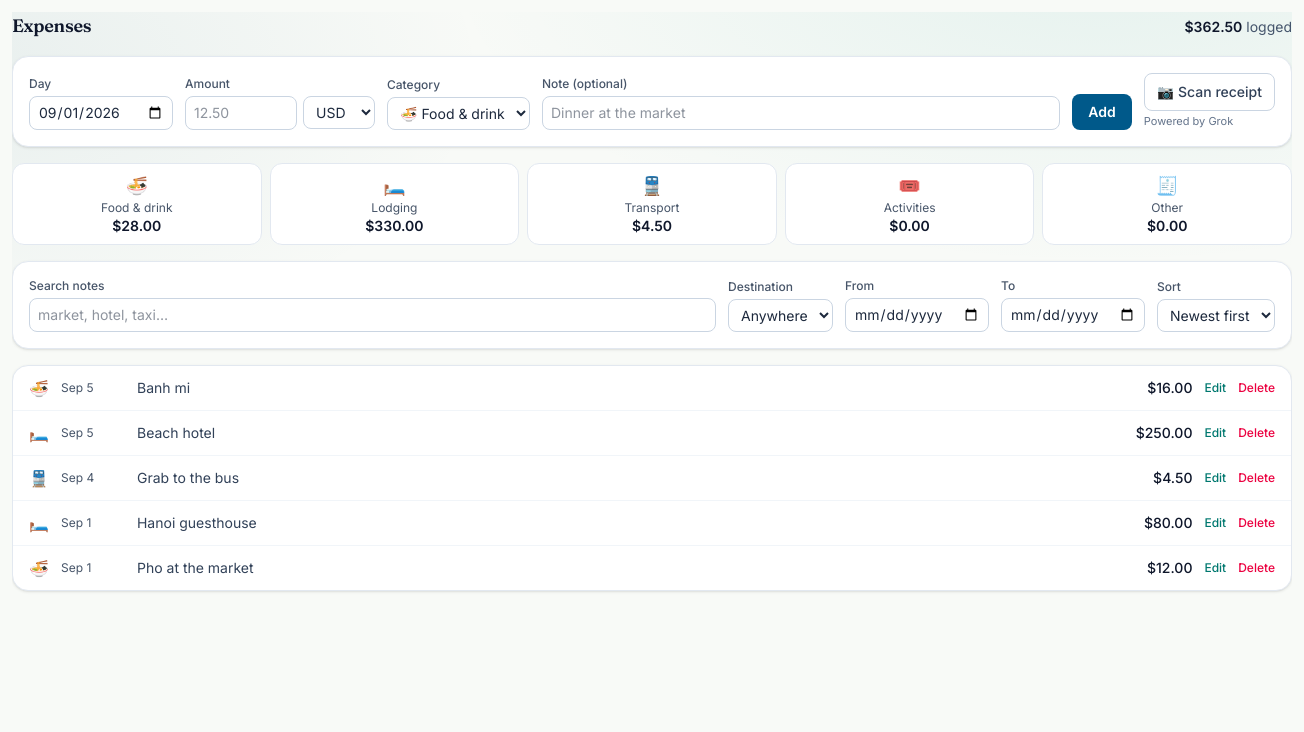
Test: filtering the expense list › leaves the filter alone when the new row matches it
Click the button "🍜 Food & drink $28.00".
click(137, 204)  # box left=12, top=162, right=262, bottom=244
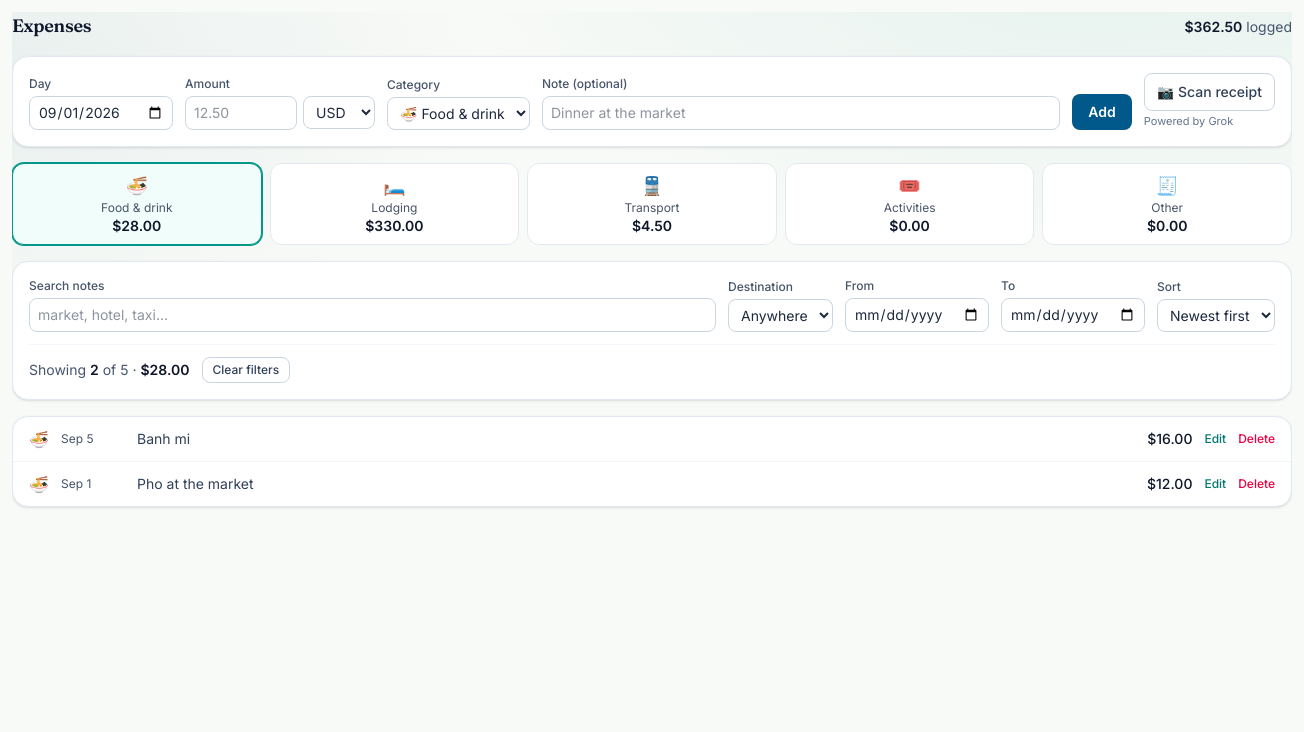
Type "3.50" into the field labelled "Amount".
click(241, 112); type("3.50")  # box left=185, top=96, right=297, bottom=130
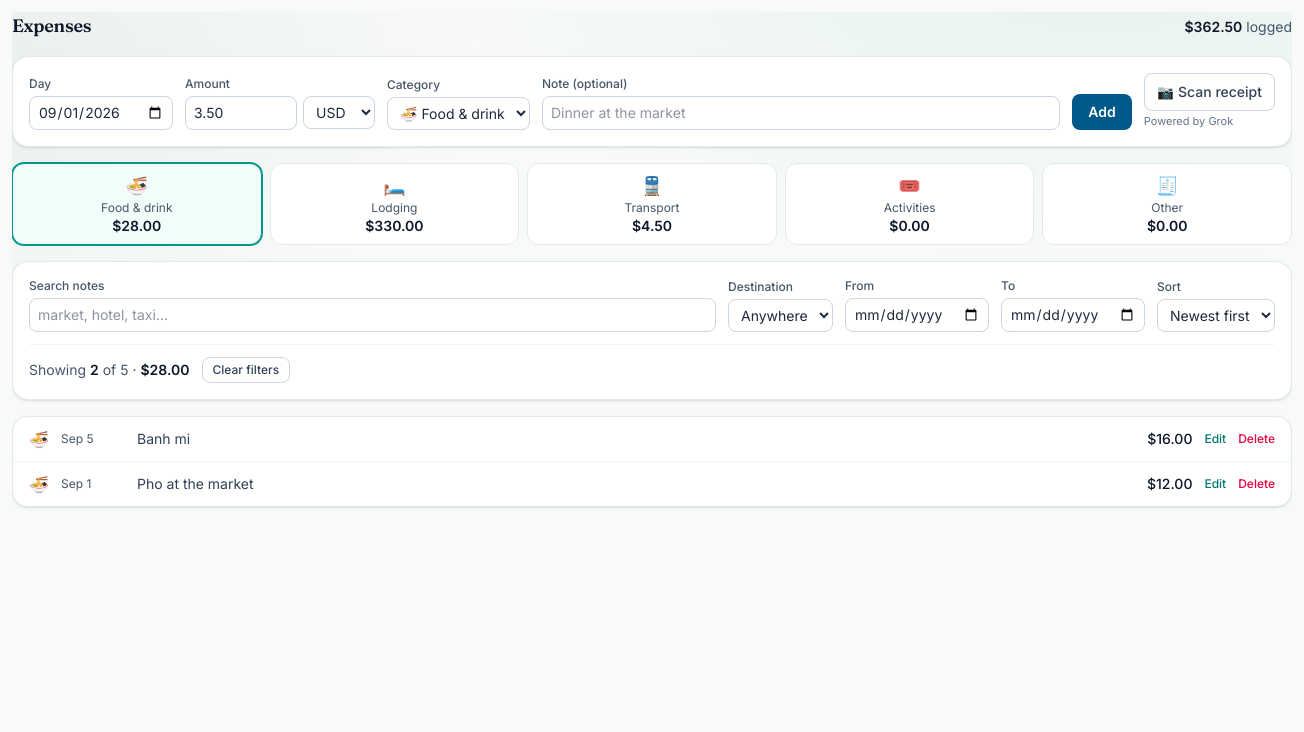
Type "Coffee" into the field labelled "Note (optional)".
click(801, 112); type("Coffee")  # box left=542, top=96, right=1060, bottom=130
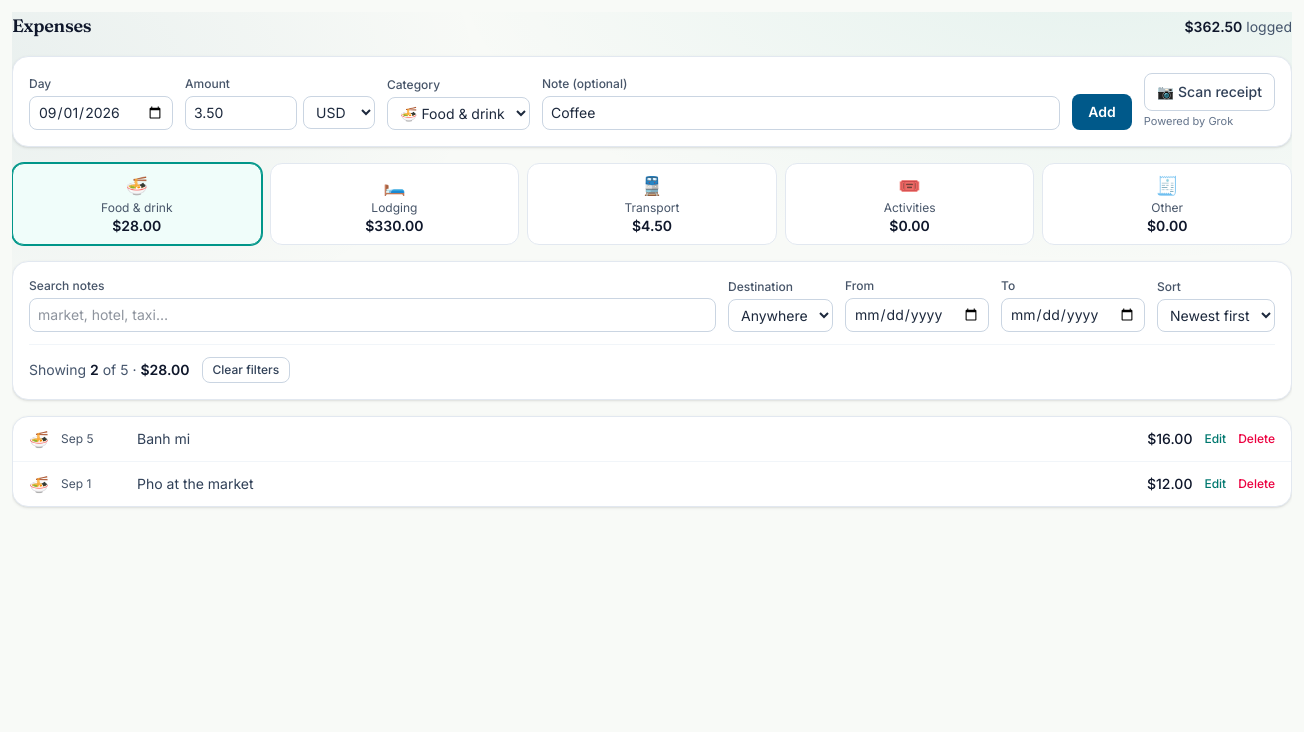
Click the button "Add".
click(1102, 112)  # box left=1072, top=94, right=1132, bottom=130
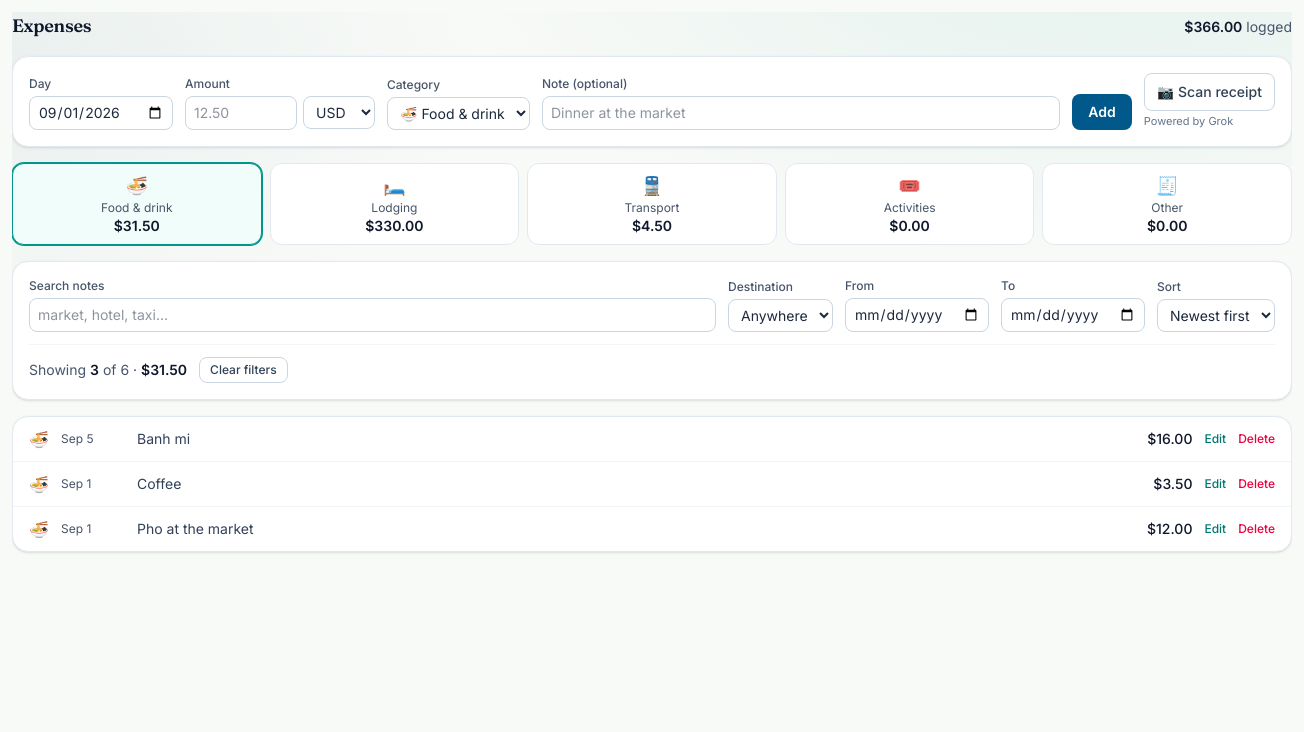
Check: the text "Coffee" is shown, box left=137, top=474, right=181, bottom=492
